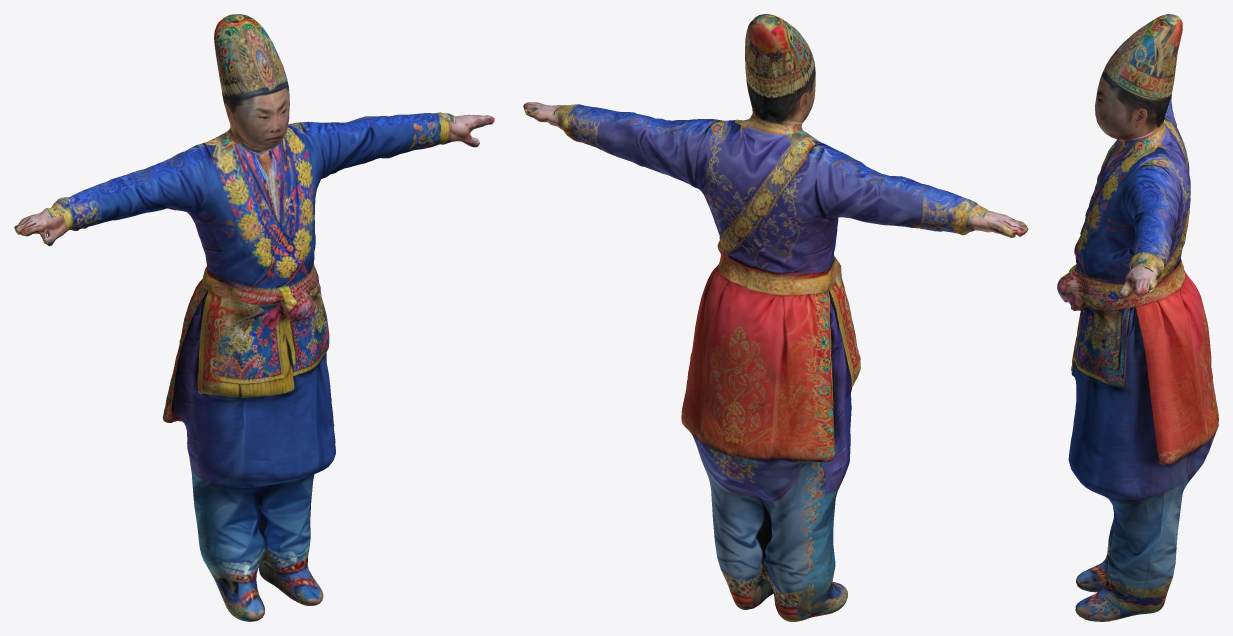
File: A_full_length_man_fro_0812072303_refine.fbx
3 renders of one model, left to right at view 1: azimuth 30°, elevation 25°; view 2: azimuth 150°, elevation 25°; view 3: azimuth 270°, elevation 25°, orthographic. The views are drawn at different scales.
Parts seen in each view (by area): view 1: Mesh_0; view 2: Mesh_0; view 3: Mesh_0.
Boxes of the visible parts, box(x1,y1,x2,y2) form: Mesh_0: box(14, 14, 494, 621); Mesh_0: box(523, 14, 1028, 621); Mesh_0: box(1057, 14, 1218, 621).
Size of the model in its own units: 104 by 120 by 29.98.
Materials: 1 (1 with a texture image).
